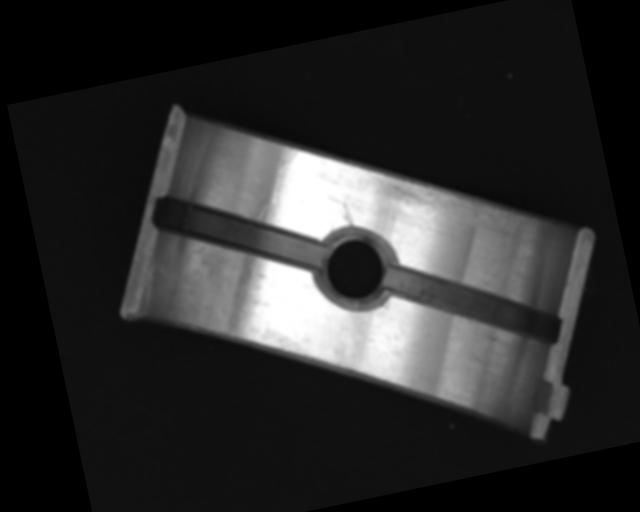gap: (382, 234, 565, 373), (151, 170, 324, 296)
hole: (310, 223, 400, 315)
nick: (262, 146, 307, 205), (340, 201, 354, 226)
scratch: (374, 144, 532, 259)
